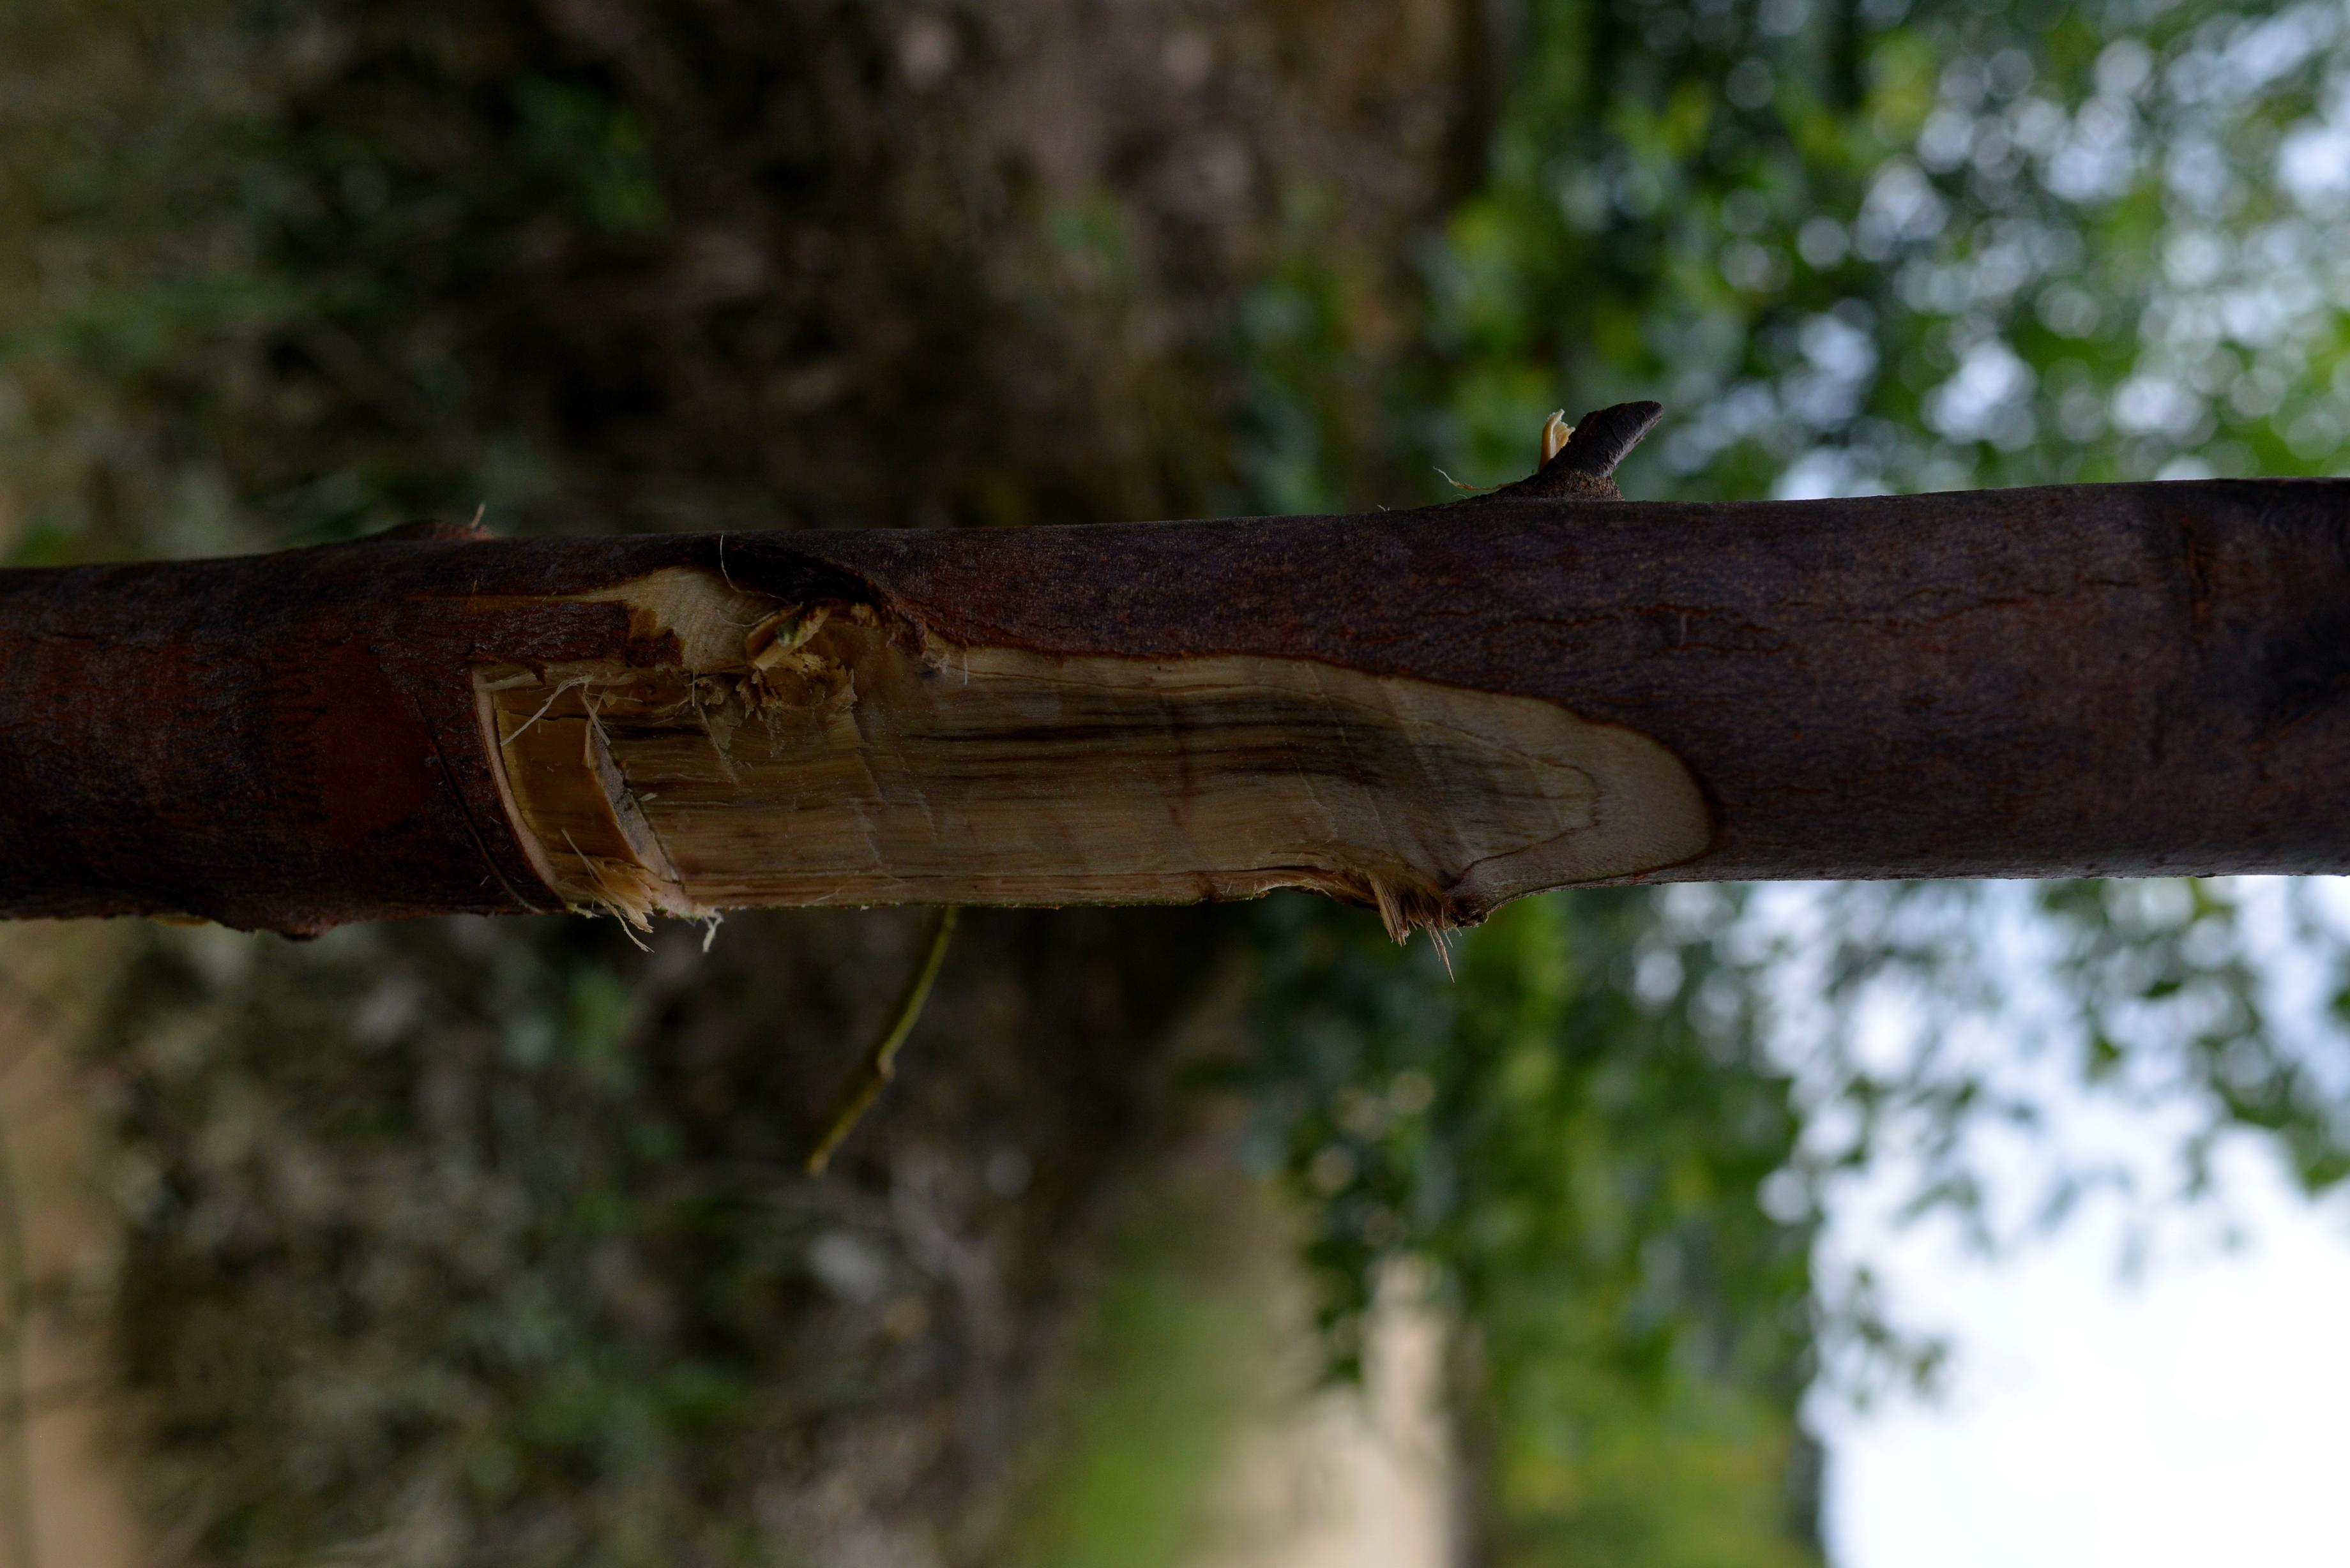Ralstonia: (546, 703, 1428, 789), (1335, 842, 1514, 954), (590, 719, 681, 898), (1410, 730, 1547, 822), (873, 653, 959, 689)
